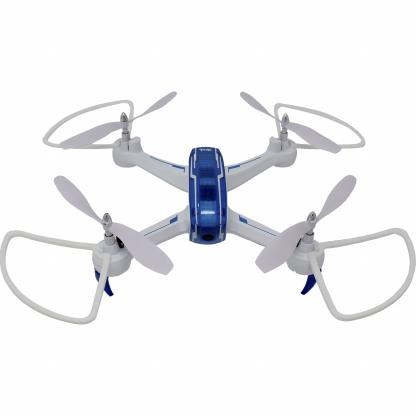drone: (11, 84, 415, 344)
